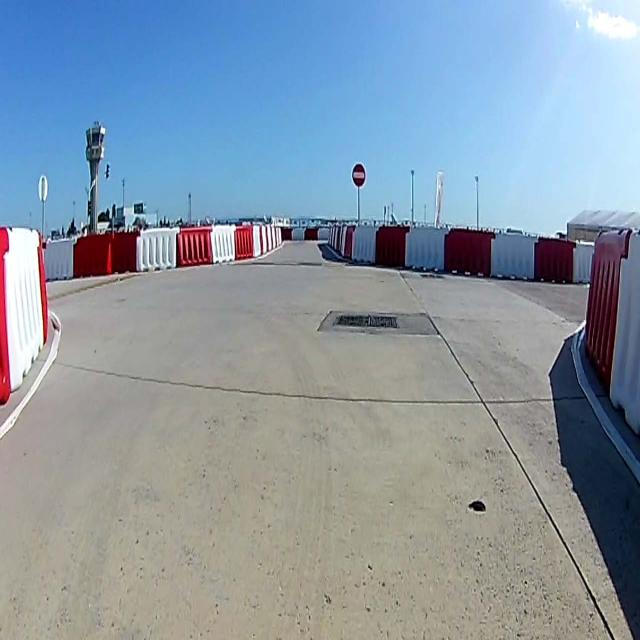girisyok: (352, 164, 366, 187)
